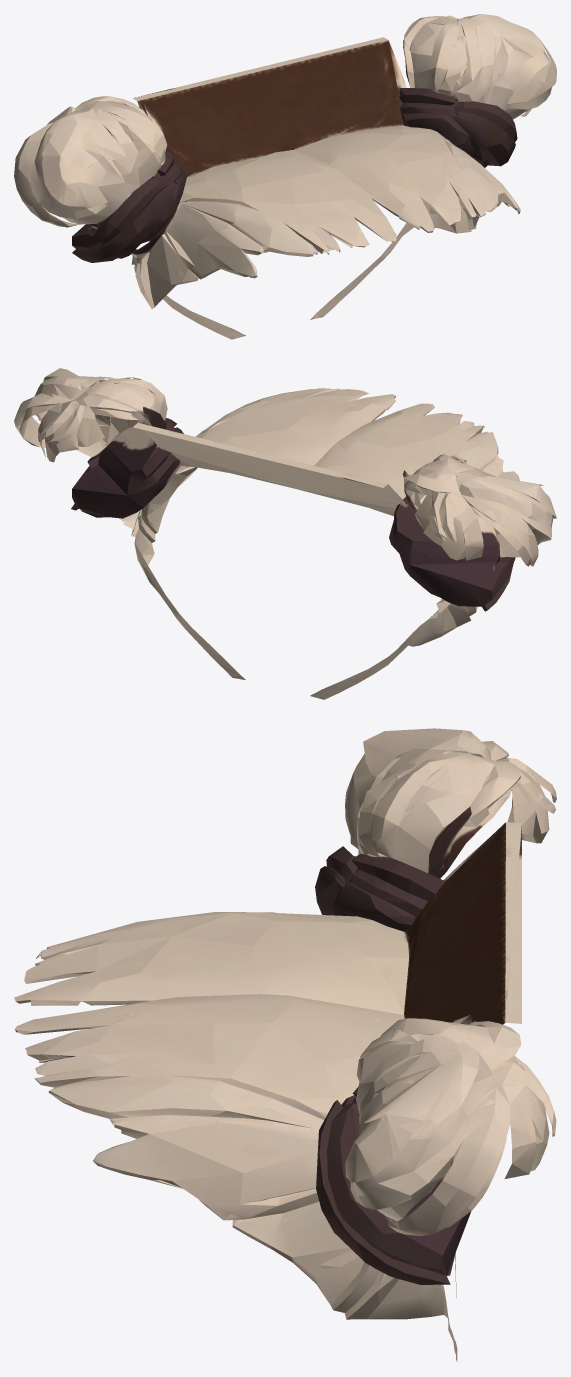
File: thalor_f-chignon-femme-deux-chignons.glb
The picture shows the model from 3 angles, top to bottom: view 1: azimuth 30°, elevation 25°; view 2: azimuth 150°, elevation 25°; view 3: azimuth 270°, elevation 25°; orthographic projection. The views are drawn at different scales.
Parts seen in each view (by area): view 1: geometry_0; view 2: geometry_0; view 3: geometry_0.
Part boxes in pixels (bbox=[...]): geometry_0: bbox=[14, 14, 556, 339]; geometry_0: bbox=[14, 368, 556, 699]; geometry_0: bbox=[14, 728, 556, 1361].
Size of the model in its own units: 1.9 by 0.9338 by 1.06.
Materials: 1 (1 with a texture image).
